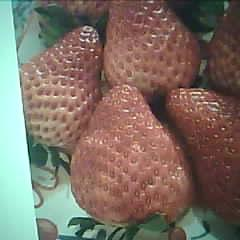straw-ripe: (71, 85, 191, 224), (166, 83, 240, 226), (19, 28, 101, 150), (104, 0, 198, 97)
